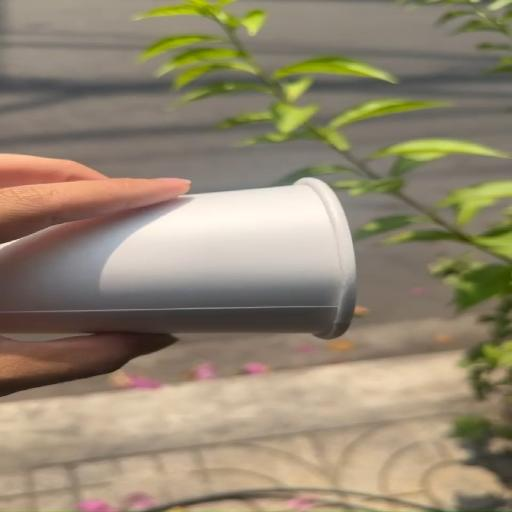Ly_giay: (0, 177, 355, 339)
